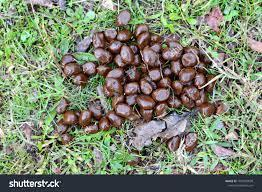Elk: (76, 33, 204, 124)
